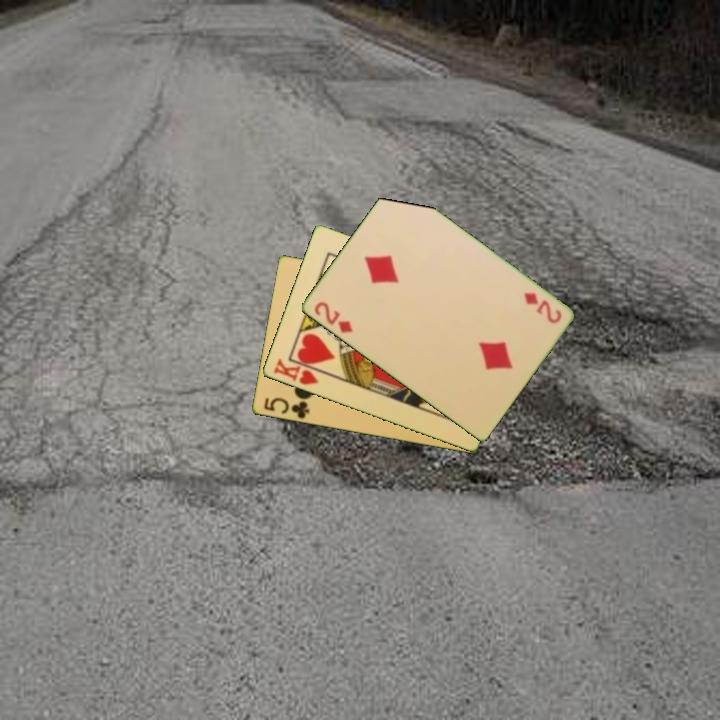2d: (310, 298, 355, 336), (520, 289, 564, 327)
5c: (260, 394, 312, 421)
Kh: (270, 355, 327, 388)
